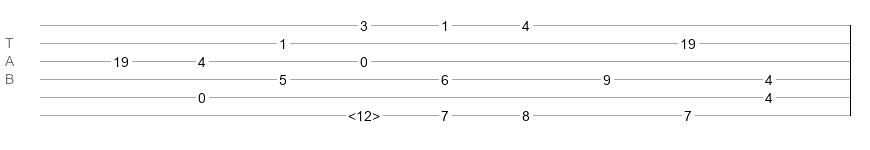0: (198, 90, 206, 100), (360, 54, 368, 64)
1: (279, 36, 287, 46), (441, 18, 449, 28)
19: (113, 54, 129, 64), (680, 36, 696, 46)
3: (360, 18, 368, 28)
4: (198, 54, 206, 64), (522, 18, 530, 28), (765, 72, 773, 82), (765, 90, 773, 100)
5: (279, 72, 287, 82)
6: (441, 72, 449, 82)
7: (441, 108, 449, 118), (684, 108, 692, 118)
8: (522, 108, 530, 118)
9: (603, 72, 611, 82)
harmonic: (348, 108, 380, 118)
